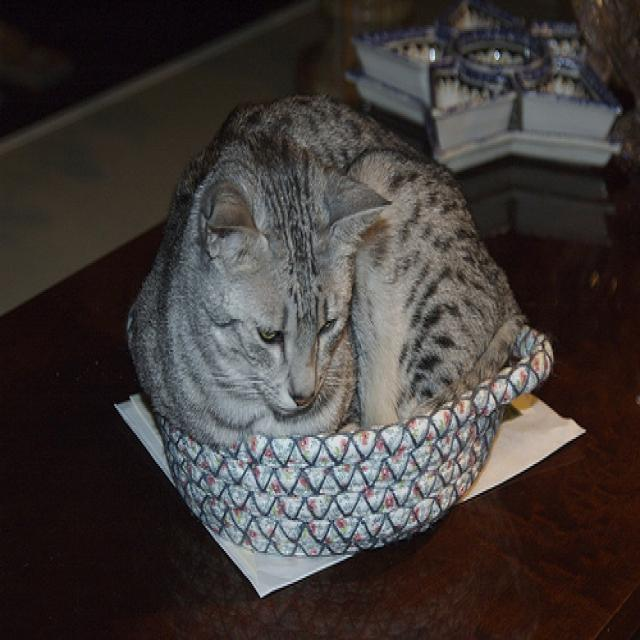Egyptian_Mau: (186, 140, 385, 424)
